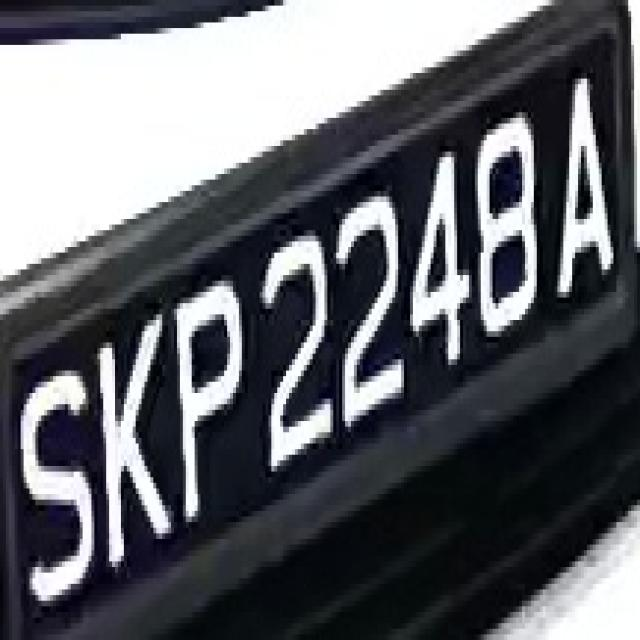2: (324, 168, 410, 438), (257, 208, 342, 477)
4: (392, 129, 469, 393)
8: (472, 84, 540, 365)
A: (549, 51, 622, 303)
K: (91, 298, 174, 590)
P: (168, 270, 248, 550)
S: (15, 348, 97, 606)
